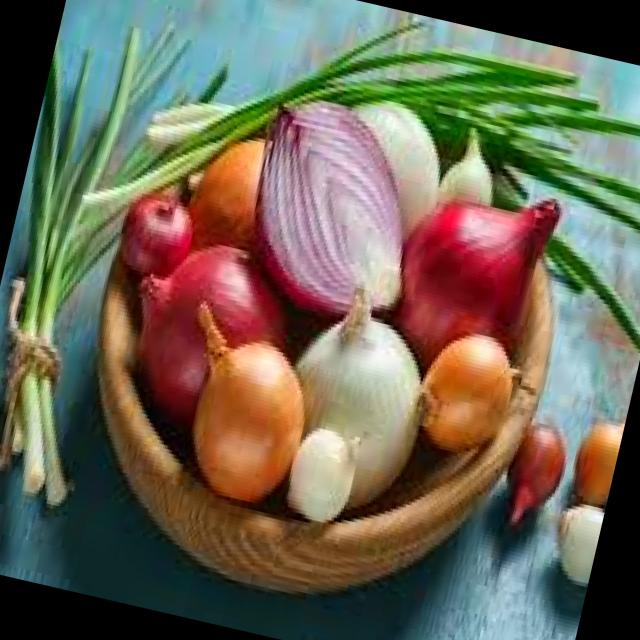Onion: (225, 85, 452, 338), (112, 217, 318, 435), (384, 159, 586, 368), (276, 272, 446, 509), (156, 297, 330, 513), (166, 112, 300, 274), (340, 74, 475, 234), (400, 318, 533, 468), (274, 402, 395, 565), (418, 114, 516, 252), (106, 188, 206, 288), (496, 411, 574, 536), (541, 478, 610, 600), (563, 400, 628, 505)
